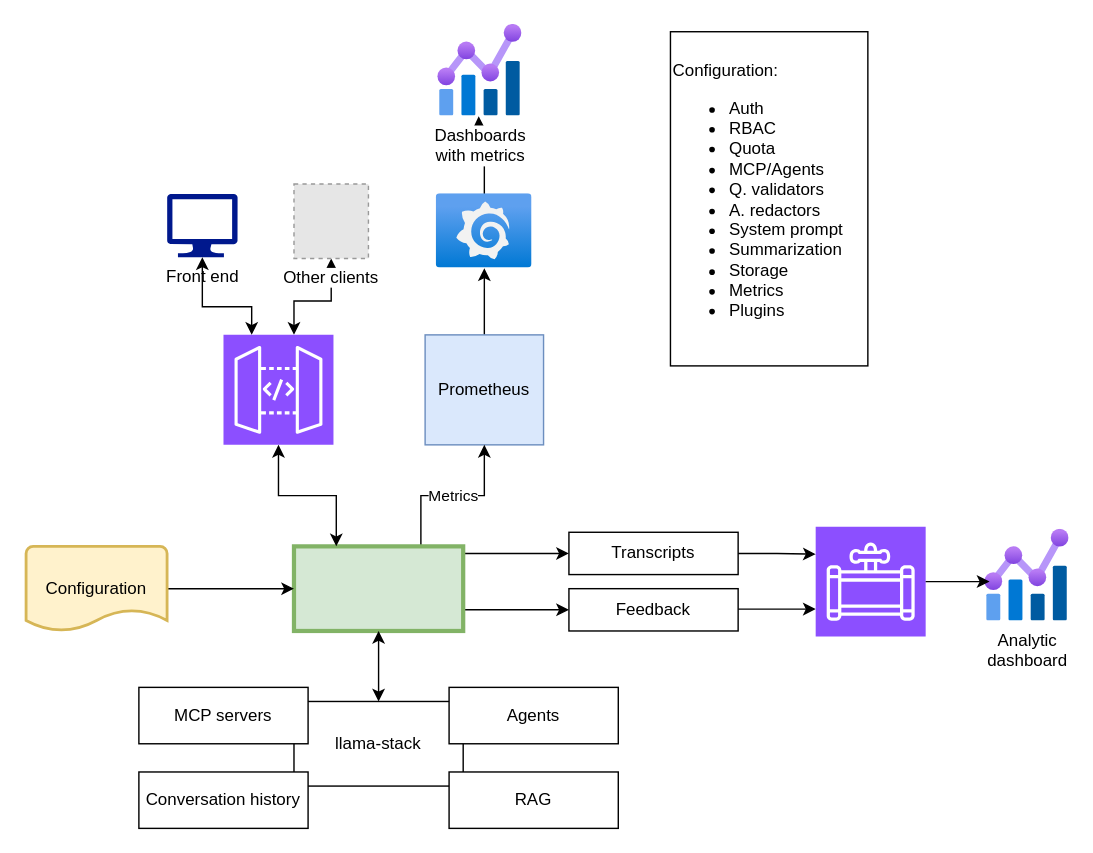
Some shapes in this 1093 by 853 pixel diagram are drawn without their labels. Grey dashed boxes stand in for pictures. The shapes that lost their labels are listed below. From the top down, each one's box as (x1, y1, x2, y2) in pixels, then its label:
(436, 193, 532, 268): Grafana
(222, 333, 333, 445): REST API
(291, 544, 465, 632): Lightspeed core
(814, 525, 926, 637): Analytic pipeline
